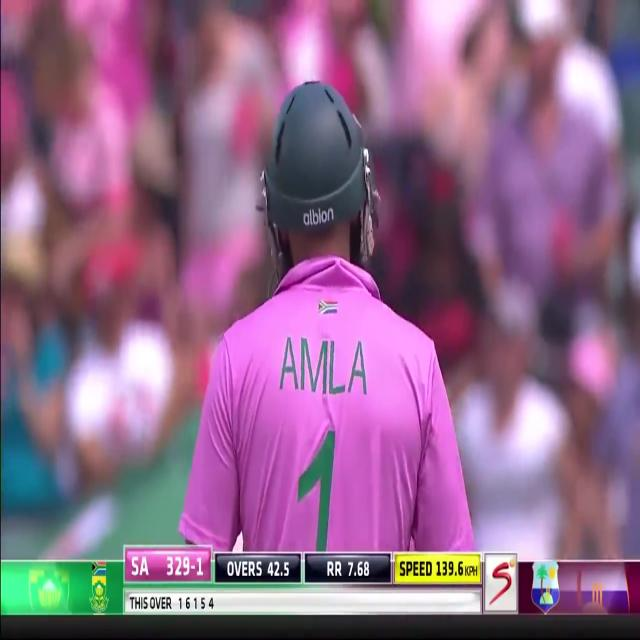Ball: (184, 81, 470, 555)
